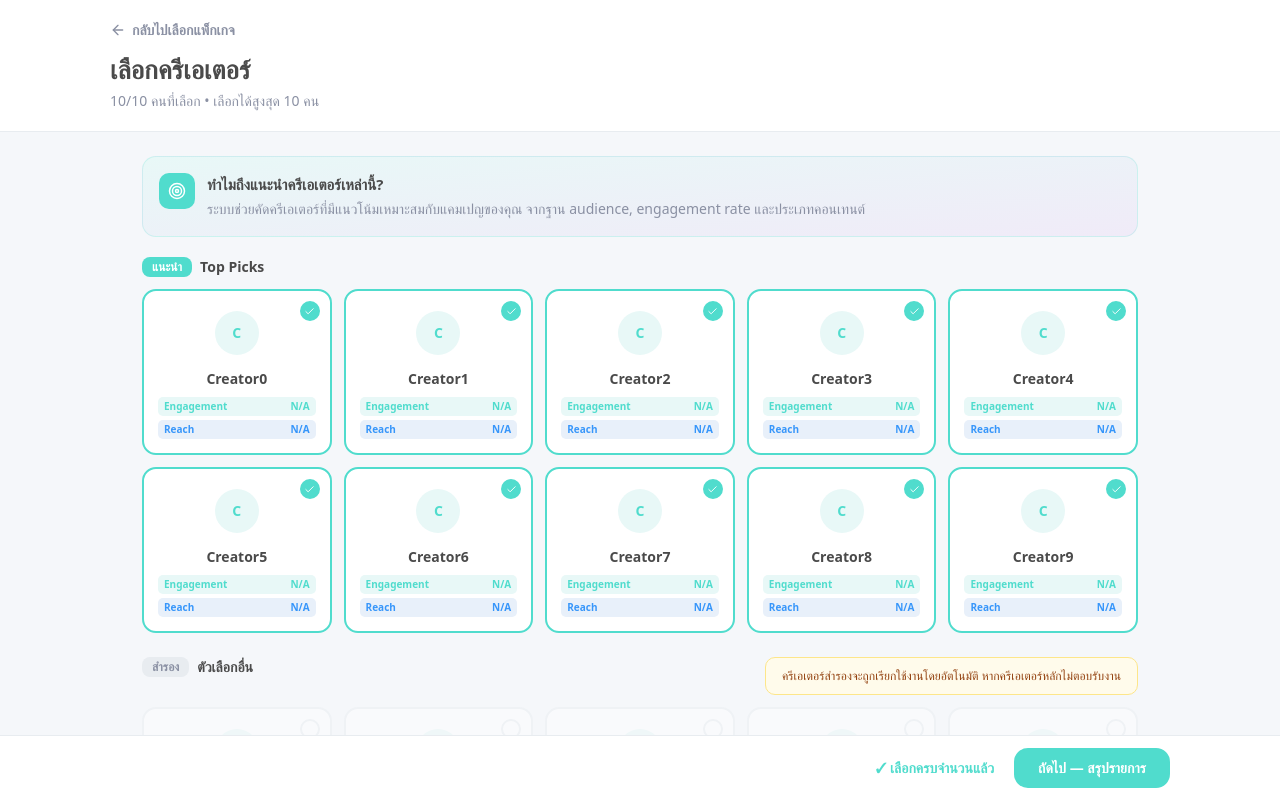
Test: SelectCreatorsPage › clicking selected creator deselects it
This screenshot has width=1280, height=800.
Step 1. Click the button "C Creator0 Engagement N/A Reach N/A" → (237, 372), box [142,289,332,455]
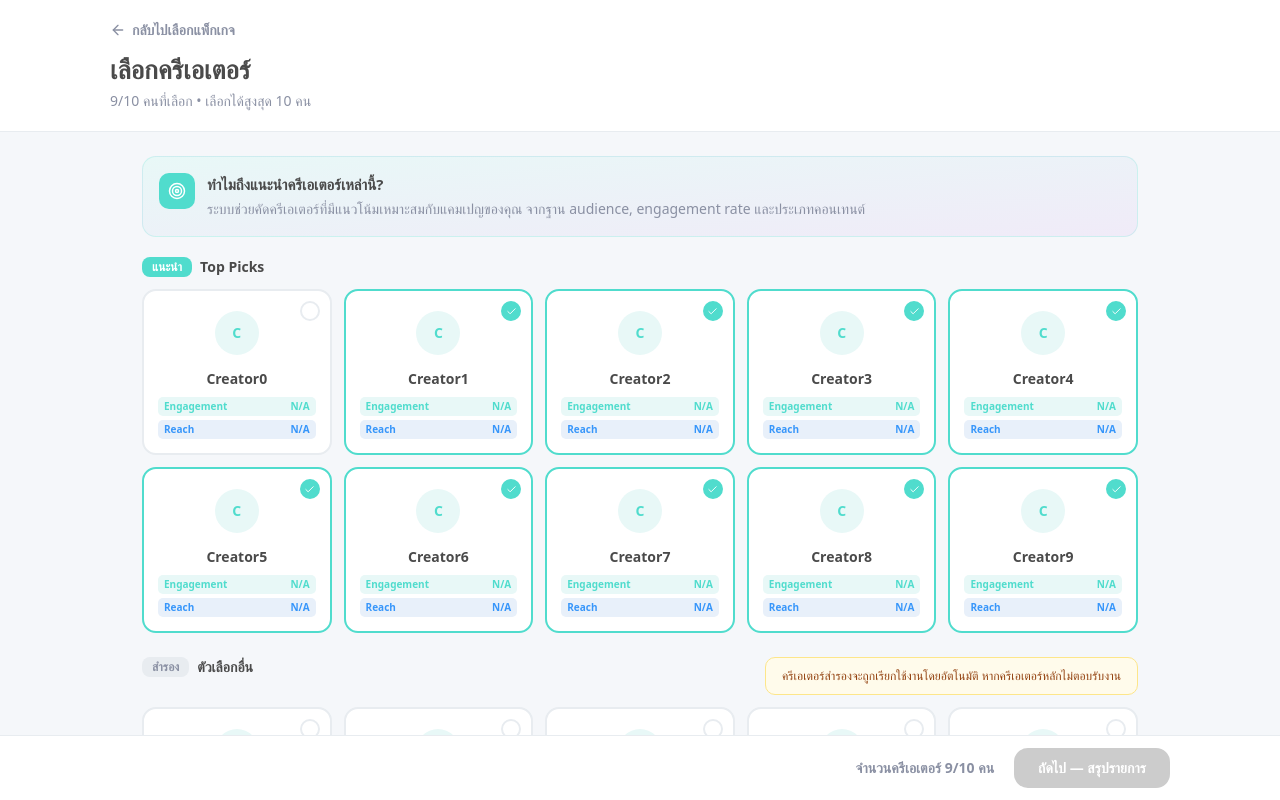
Now the text "9/10 คนที่เลือก • เลือกได้สูงสุด 10 คน" is shown, box [110,91,311,110]
